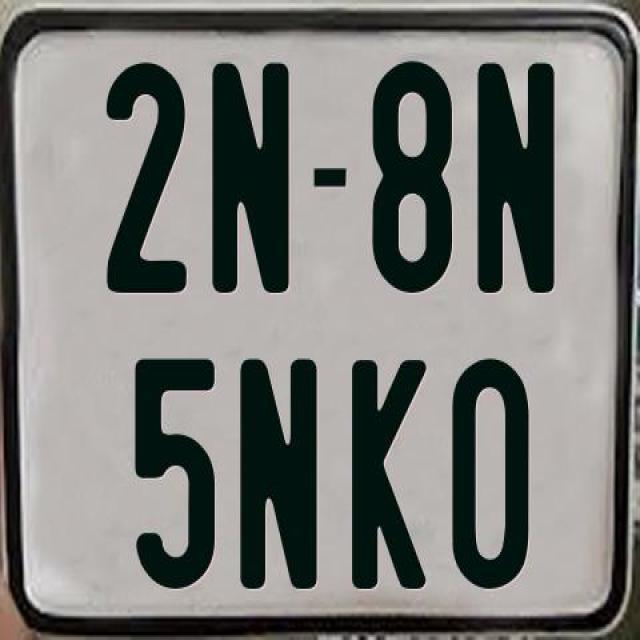0: (448, 354, 534, 588)
2: (102, 58, 186, 298)
5: (134, 356, 214, 590)
8: (372, 61, 460, 300)
K: (352, 357, 432, 592)
N: (474, 62, 554, 301), (238, 356, 318, 594), (209, 62, 288, 296)
